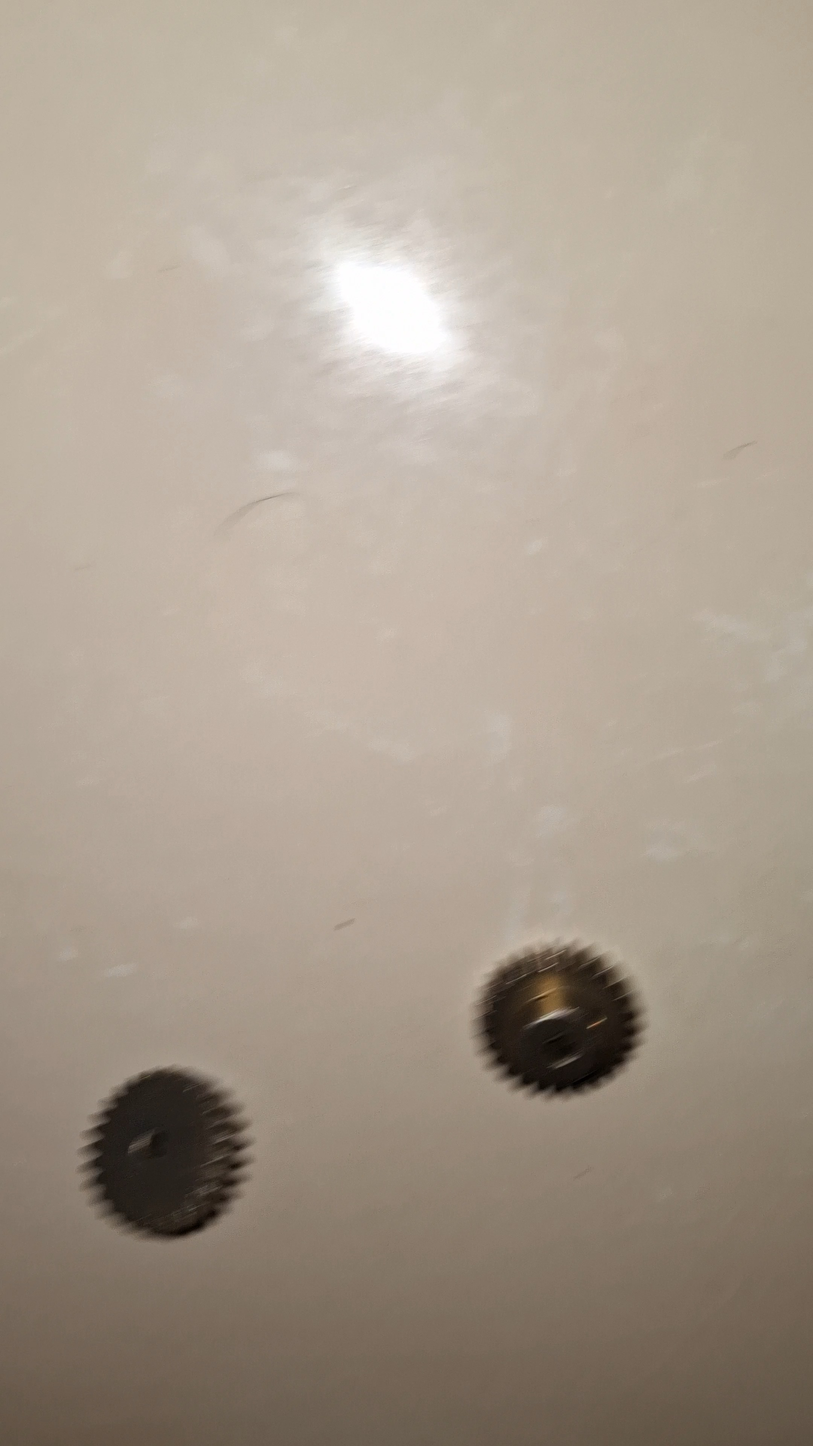spur gear: (84, 1069, 246, 1237), (480, 944, 640, 1092)
